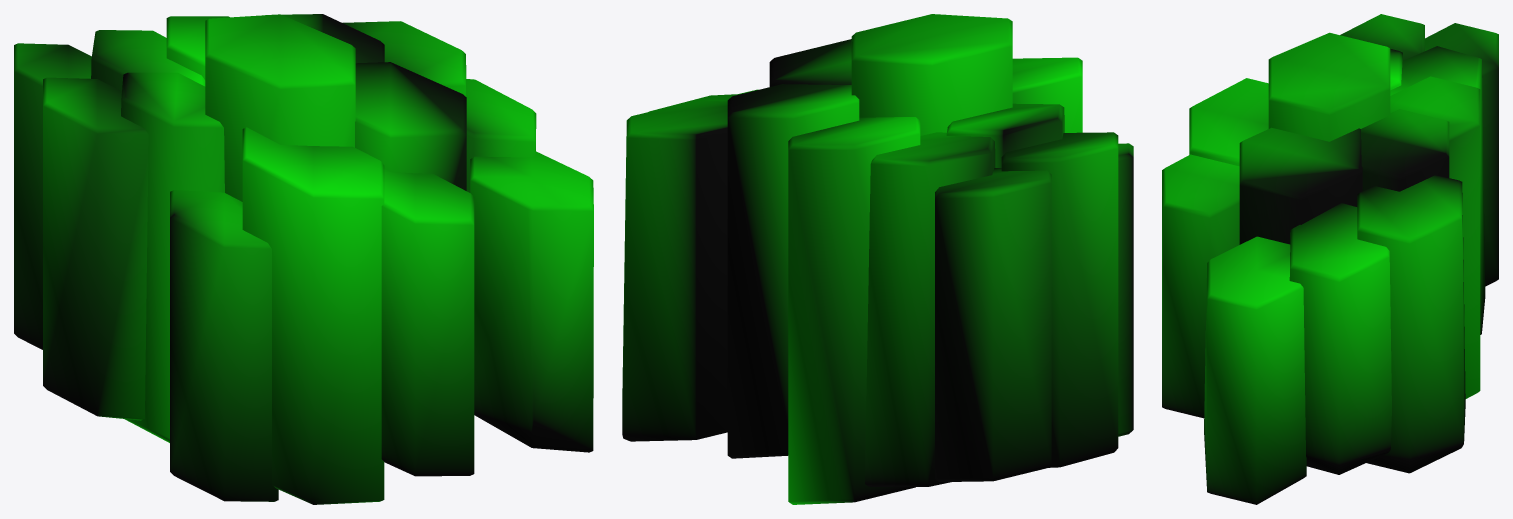
Rendered from SM_RockHexic_RockSlanted08.fbx.
3 views of the same model, side by side, from view 1: azimuth 30°, elevation 25°; view 2: azimuth 150°, elevation 25°; view 3: azimuth 270°, elevation 25° (orthographic). The views are drawn at different scales.
Visible parts, largest first — view 1: SM_RockHexic_RockSlanted08; view 2: SM_RockHexic_RockSlanted08; view 3: SM_RockHexic_RockSlanted08.
Boxes of the visible parts, x1,y1,x2,y2 form: SM_RockHexic_RockSlanted08: (14, 14, 593, 504); SM_RockHexic_RockSlanted08: (622, 14, 1133, 504); SM_RockHexic_RockSlanted08: (1162, 14, 1498, 504).
Size of the model in its own units: 1549 by 1179 by 1313.
